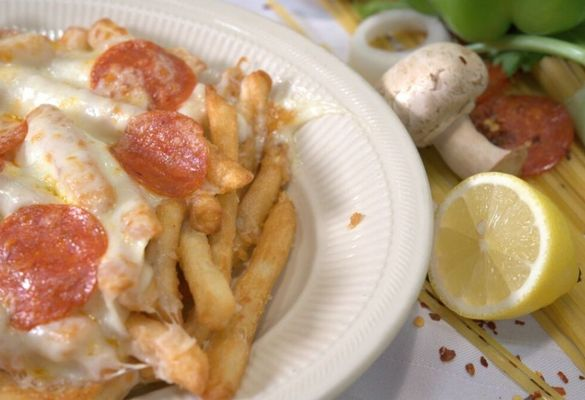sushi: (0, 4, 441, 393)
taco: (426, 172, 581, 323)
